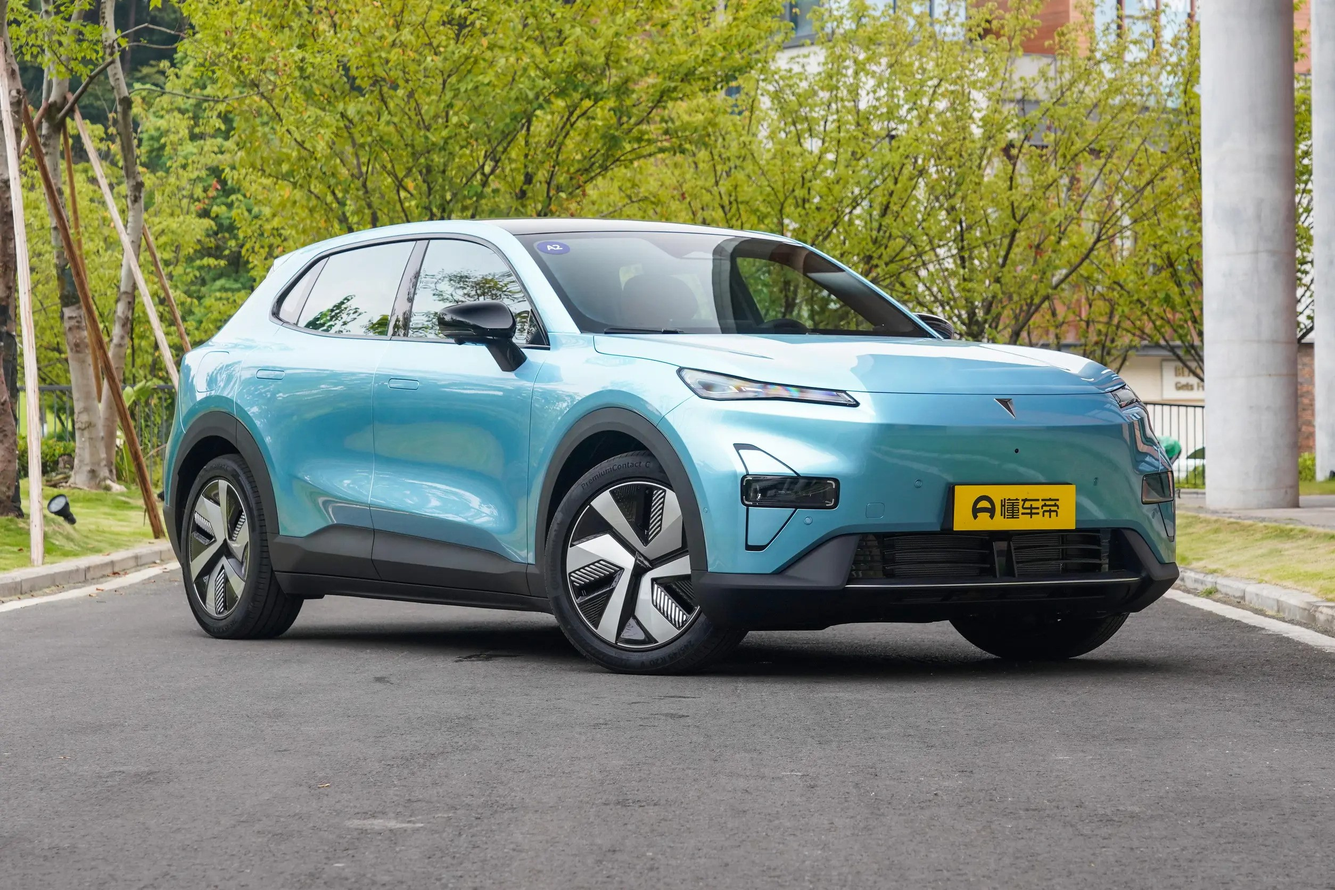Deepal: (994, 398, 1016, 418)
